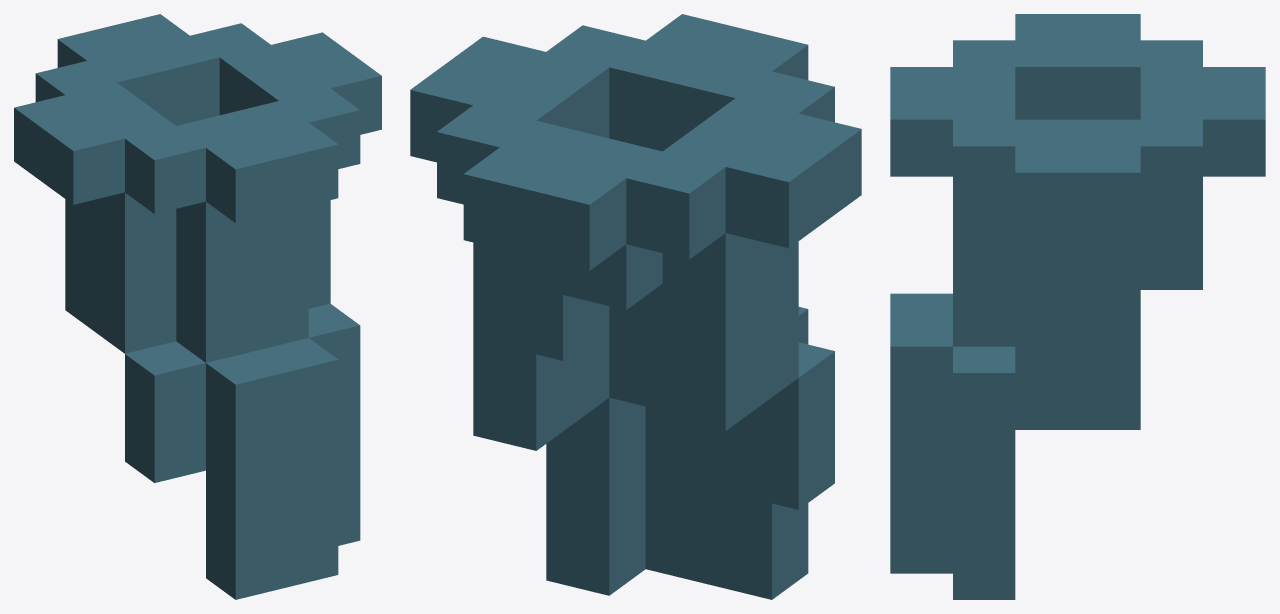
File: vase-2-5.obj
The picture shows the model from 3 angles, left to right: view 1: azimuth 30°, elevation 25°; view 2: azimuth 150°, elevation 25°; view 3: azimuth 270°, elevation 25°; orthographic projection. The views are drawn at different scales.
Parts seen in each view (by area): view 1: 5; view 2: 5; view 3: 5.
Boxes of the visible parts, box(x1,y1,x2,y2) form: 5: box(14, 14, 381, 599); 5: box(410, 14, 861, 599); 5: box(890, 14, 1265, 599).
Bounding box in the file's own units: 0.6 × 0.8 × 0.6.
1 material, 1 textured.
